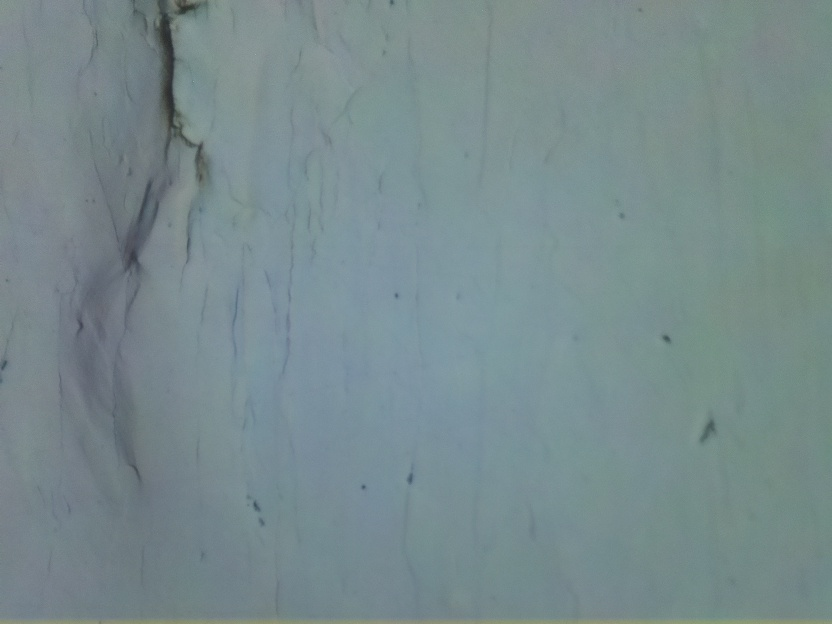crack: (147, 0, 200, 146)
